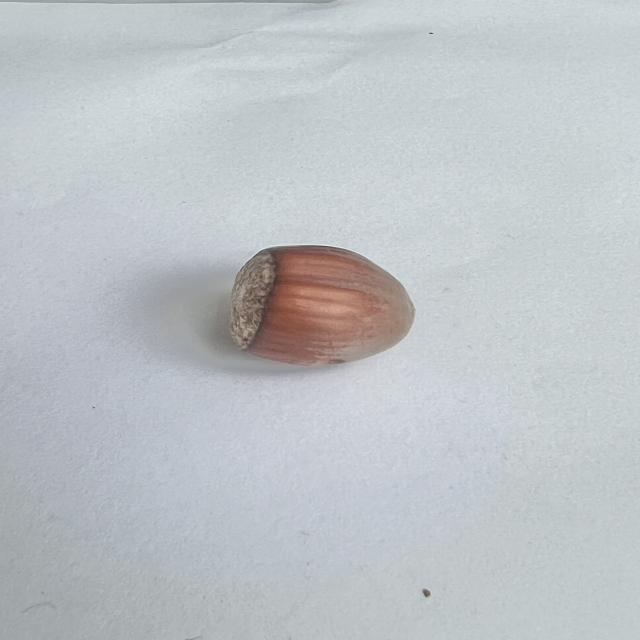hazelnut: (229, 230, 426, 373)
